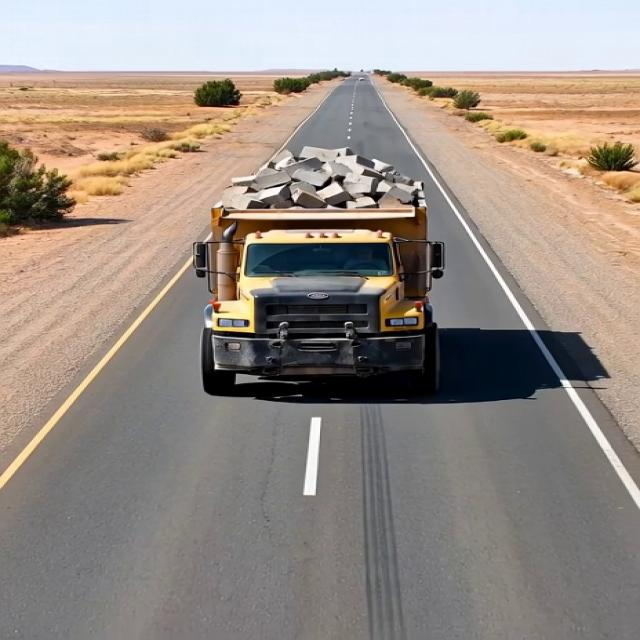trailer: (213, 141, 421, 227)
truck: (192, 137, 468, 394)
